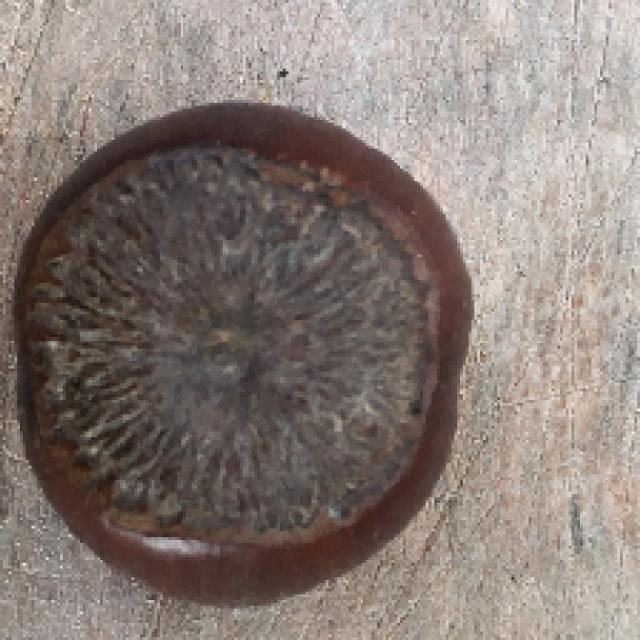damagedHazelnut: (1, 108, 496, 616)
